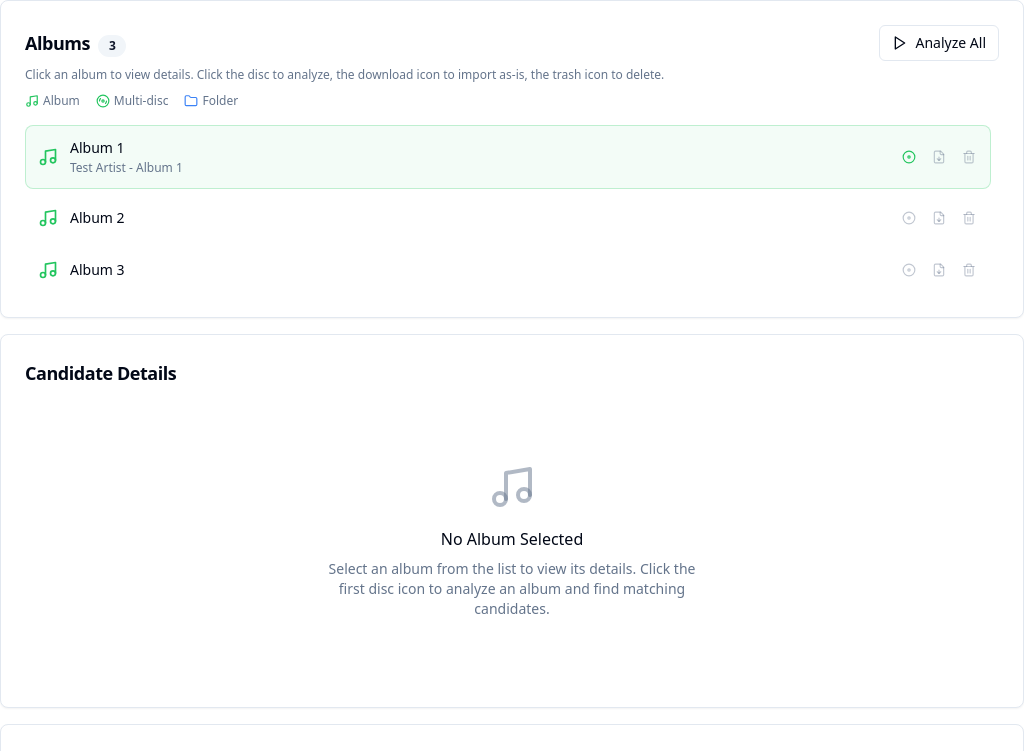
Scenario: BeetsImportPanel › Album Selection Flow › should update candidate details when album is selected
This screenshot has width=1024, height=751.
Note: Click on Album 1
What coordinates should you click on to do the following:
click the text "Album 1"
I would click on:
 (97, 148)
Its box is [70, 138, 125, 157].
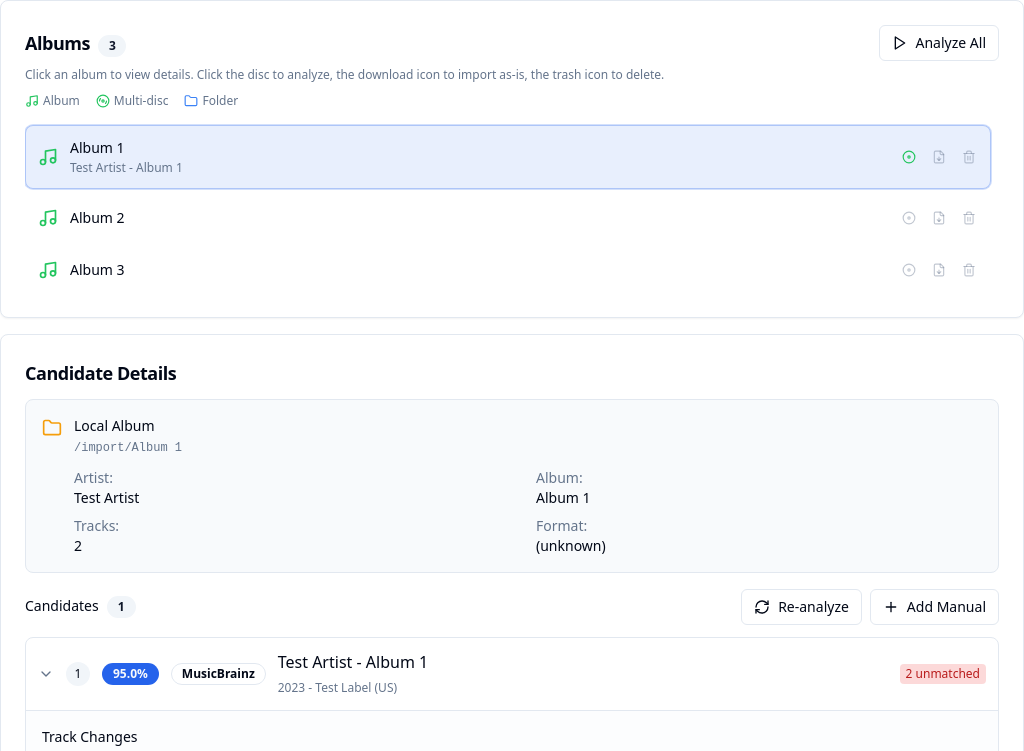
Expected: the text "/import/Album 1" is shown, [74, 441, 182, 455]
Expected: the text "MusicBrainz" is shown, [171, 663, 266, 685]
Expected: the text "95.0%" is shown, [102, 663, 159, 685]
